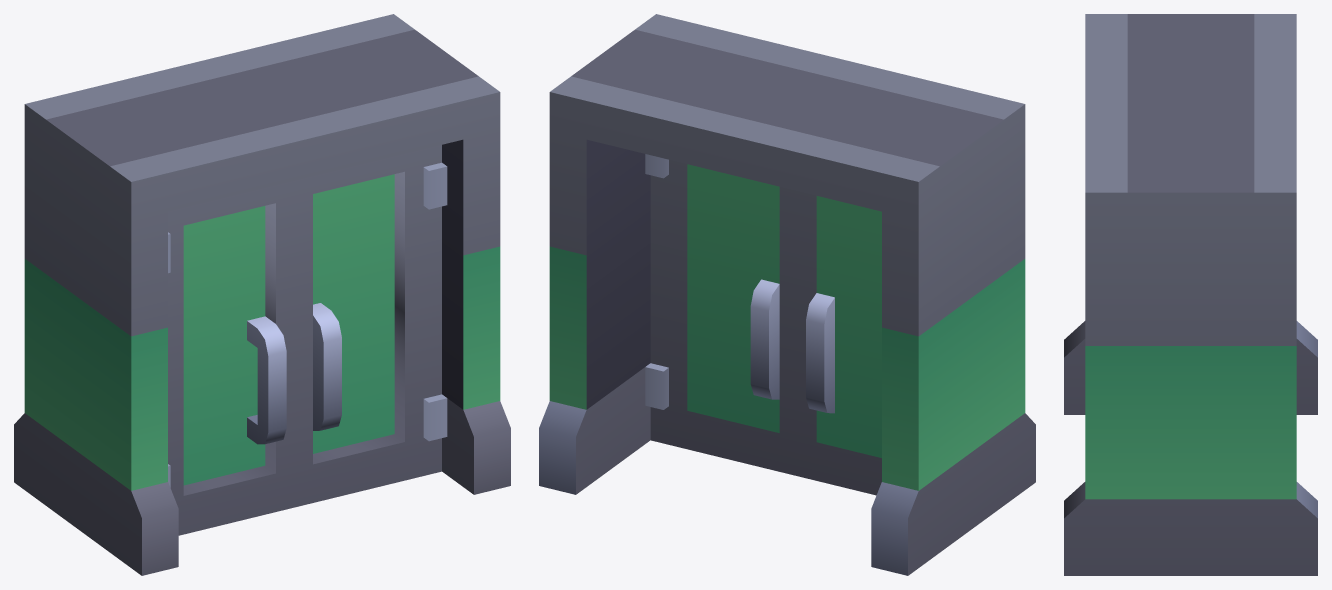
Rendered from wall-door-rotate.obj.
3 views of the same model, side by side, from view 1: azimuth 30°, elevation 25°; view 2: azimuth 150°, elevation 25°; view 3: azimuth 270°, elevation 25° (orthographic).
Parts seen in each view (by area): view 1: wall-door-rotate, door-right, door-left; view 2: wall-door-rotate, door-right, door-left; view 3: wall-door-rotate.
Part boxes in pixels (x1=…): wall-door-rotate: x1=14, y1=14, x2=510, y2=575; door-right: x1=294, y1=145, x2=447, y2=507; door-left: x1=168, y1=181, x2=294, y2=535; wall-door-rotate: x1=539, y1=14, x2=1035, y2=575; door-right: x1=645, y1=154, x2=797, y2=476; door-left: x1=798, y1=191, x2=881, y2=495; wall-door-rotate: x1=1064, y1=14, x2=1317, y2=575.
Bounding box in the file's own units: 1 × 1 × 0.6.
1 material, 1 textured.
